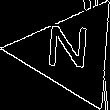N_S: (46, 26, 95, 80)
